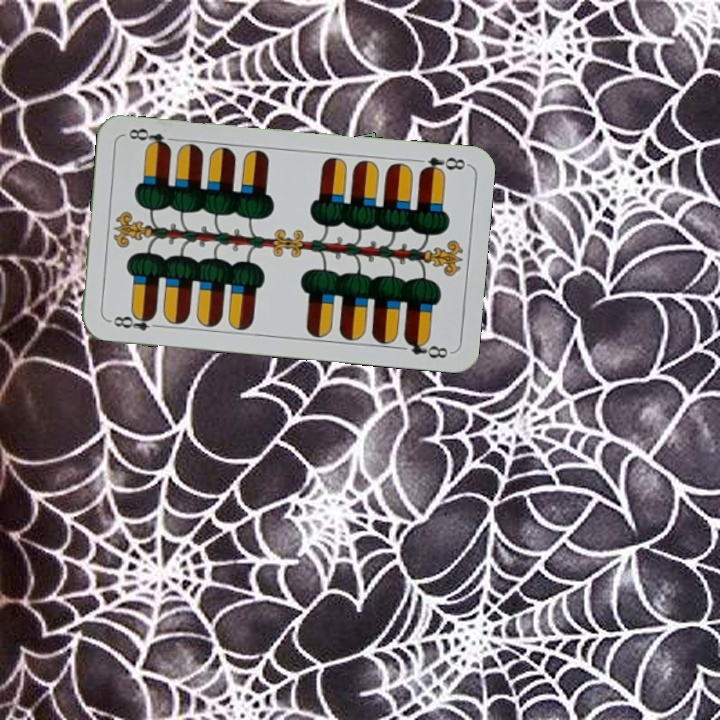E8: (105, 309, 164, 333), (416, 153, 469, 177)
